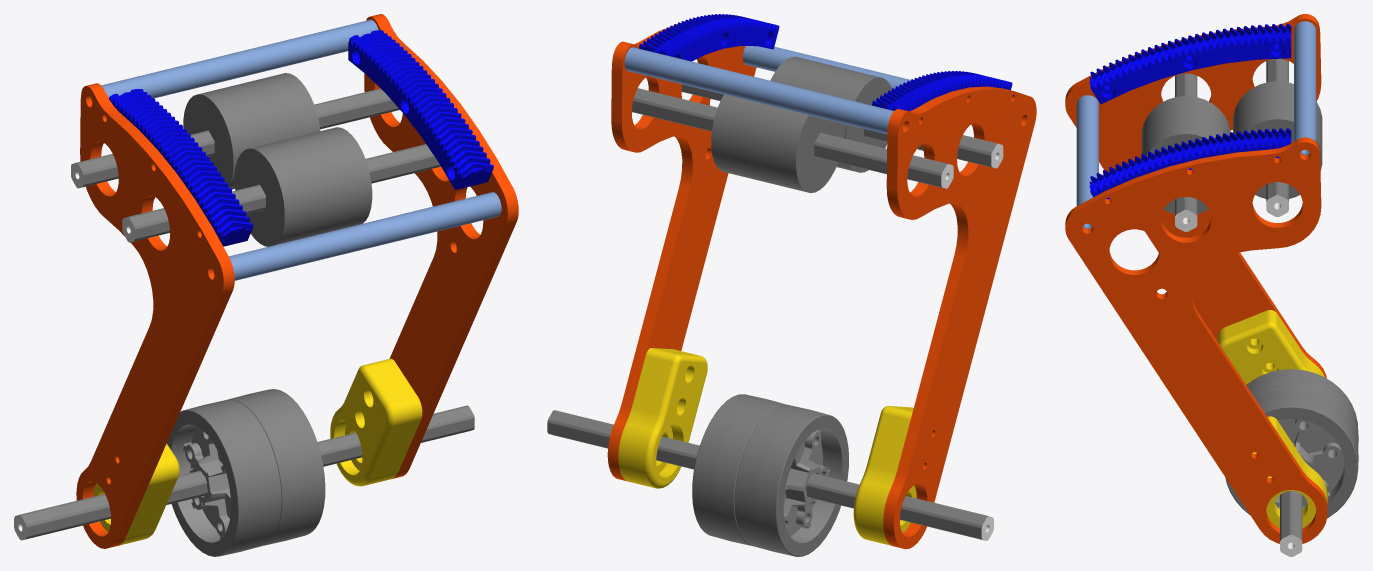
3 renders of one model, left to right at view 1: azimuth 30°, elevation 25°; view 2: azimuth 150°, elevation 25°; view 3: azimuth 270°, elevation 25°, orthographic. The views are drawn at different scales.
Visible parts, largest first — view 1: right_hood_plate, 3" Solid Urethane Wheel (45A, 1" Wide, 1/2" Hex Bore), 2" Solid Urethane Wheel (45A, 1" Wide, 1/2" Hex Bore)_1, left_hood_plate, Spur gear (357 teeth) (×2), hood_standoff, Part 9, 1/2" Rounded Hex (7.4375"L 13.75mm OD)_1, 1/2" Rounded Hex (10.25"L 13.75mm OD), Part 11; view 2: right_hood_plate, 3" Solid Urethane Wheel (45A, 1" Wide, 1/2" Hex Bore), left_hood_plate, 2" Solid Urethane Wheel (45A, 1" Wide, 1/2" Hex Bore)_1, hood_standoff, Part 9, Spur gear (357 teeth) (×2), 1/2" Rounded Hex (7.4375"L 13.75mm OD)_1, 1/2" Rounded Hex (10.25"L 13.75mm OD), Part 11; view 3: left_hood_plate, right_hood_plate, Spur gear (357 teeth) (×2), 3" Solid Urethane Wheel (45A, 1" Wide, 1/2" Hex Bore), 2" Solid Urethane Wheel (45A, 1" Wide, 1/2" Hex Bore)_1, hood_standoff, Part 11, 1/2" Rounded Hex (7.4375"L 13.75mm OD)_1, Part 9, 1/2" Rounded Hex (10.25"L 13.75mm OD).
Part boxes in pixels (box(x1,y1,x2,y2)): right_hood_plate: box(76, 83, 234, 548); 3" Solid Urethane Wheel (45A, 1" Wide, 1/2" Hex Bore): box(167, 389, 325, 556); 2" Solid Urethane Wheel (45A, 1" Wide, 1/2" Hex Bore)_1: box(183, 73, 372, 246); left_hood_plate: box(364, 14, 518, 479); Spur gear (357 teeth) (×2): box(109, 30, 493, 246); hood_standoff: box(101, 19, 501, 280); Part 9: box(330, 358, 422, 486); 1/2" Rounded Hex (7.4375"L 13.75mm OD)_1: box(71, 88, 440, 242); 1/2" Rounded Hex (10.25"L 13.75mm OD): box(14, 405, 474, 540); Part 11: box(93, 443, 179, 545); right_hood_plate: box(883, 86, 1036, 549); 3" Solid Urethane Wheel (45A, 1" Wide, 1/2" Hex Bore): box(692, 394, 848, 556); left_hood_plate: box(607, 24, 756, 481); 2" Solid Urethane Wheel (45A, 1" Wide, 1/2" Hex Bore)_1: box(711, 56, 891, 192); hood_standoff: box(624, 46, 910, 134); Part 9: box(618, 348, 707, 488); Spur gear (357 teeth) (×2): box(639, 14, 1012, 111); 1/2" Rounded Hex (7.4375"L 13.75mm OD)_1: box(632, 84, 1003, 188); 1/2" Rounded Hex (10.25"L 13.75mm OD): box(547, 410, 993, 540); Part 11: box(853, 406, 916, 545); left_hood_plate: box(1065, 137, 1327, 543); right_hood_plate: box(1065, 14, 1326, 378); Spur gear (357 teeth) (×2): box(1089, 23, 1291, 199); 3" Solid Urethane Wheel (45A, 1" Wide, 1/2" Hex Bore): box(1225, 369, 1358, 518); 2" Solid Urethane Wheel (45A, 1" Wide, 1/2" Hex Bore)_1: box(1141, 81, 1322, 213); hood_standoff: box(1076, 21, 1316, 228); Part 11: box(1217, 310, 1324, 384); 1/2" Rounded Hex (7.4375"L 13.75mm OD)_1: box(1175, 58, 1288, 231); Part 9: box(1253, 416, 1327, 528); 1/2" Rounded Hex (10.25"L 13.75mm OD): box(1280, 491, 1302, 556).
Bounding box in the file's own units: 0.2603 × 0.269 × 0.1658.
